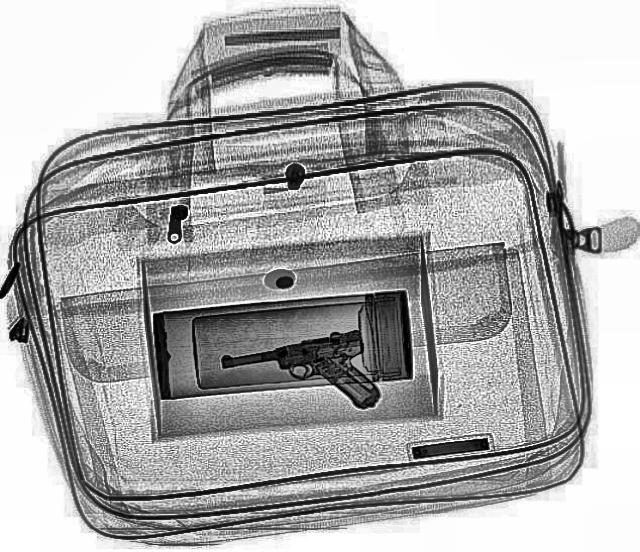Gun: (215, 325, 382, 429)
